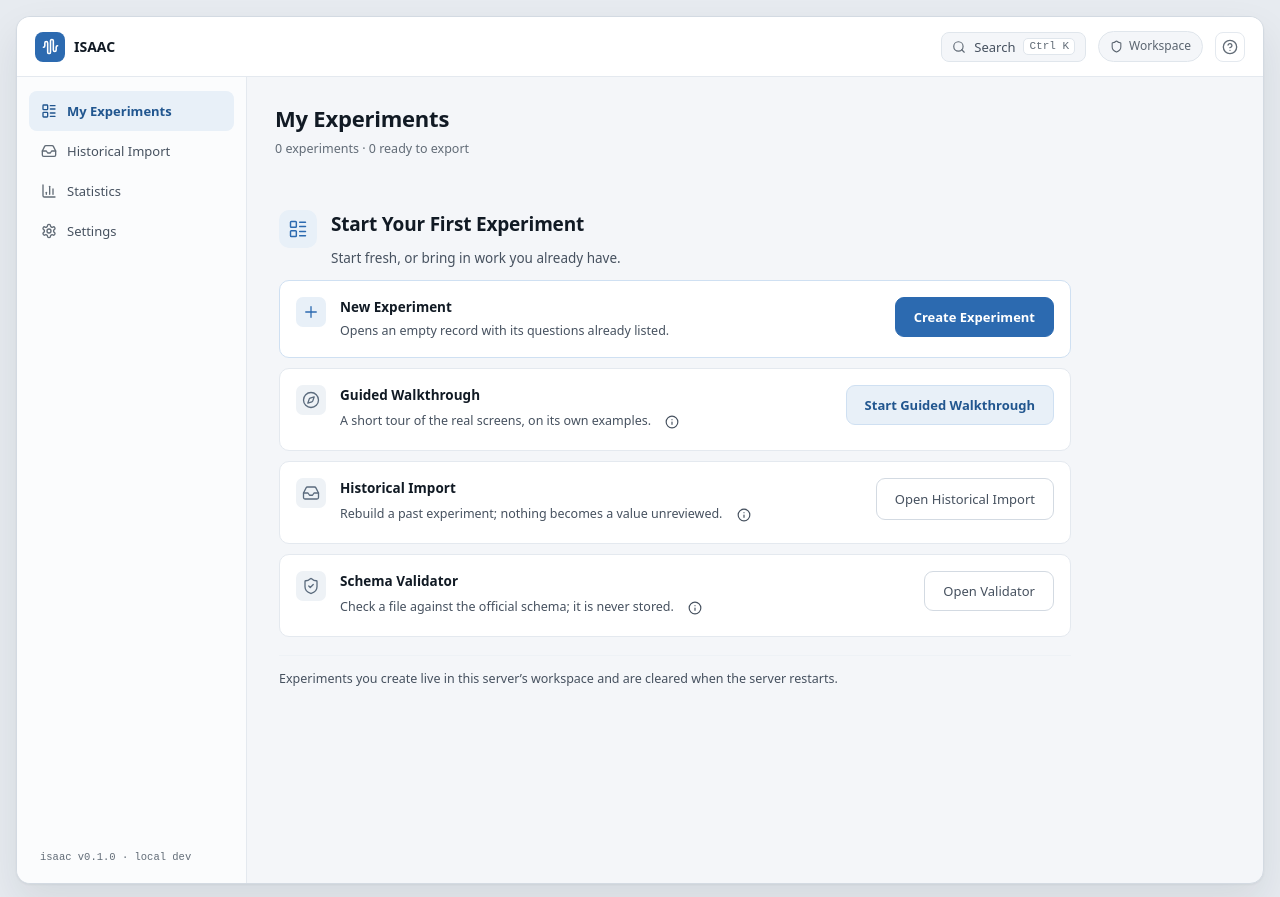
Test case: My Experiments · Create Experiment › surfaces a failure and keeps the reader on the form
expect the heading "Start Your First Experiment" is shown: met, box [331, 210, 621, 240]
Click the button "Create Experiment". click: click(974, 316)
box: [895, 296, 1054, 336]
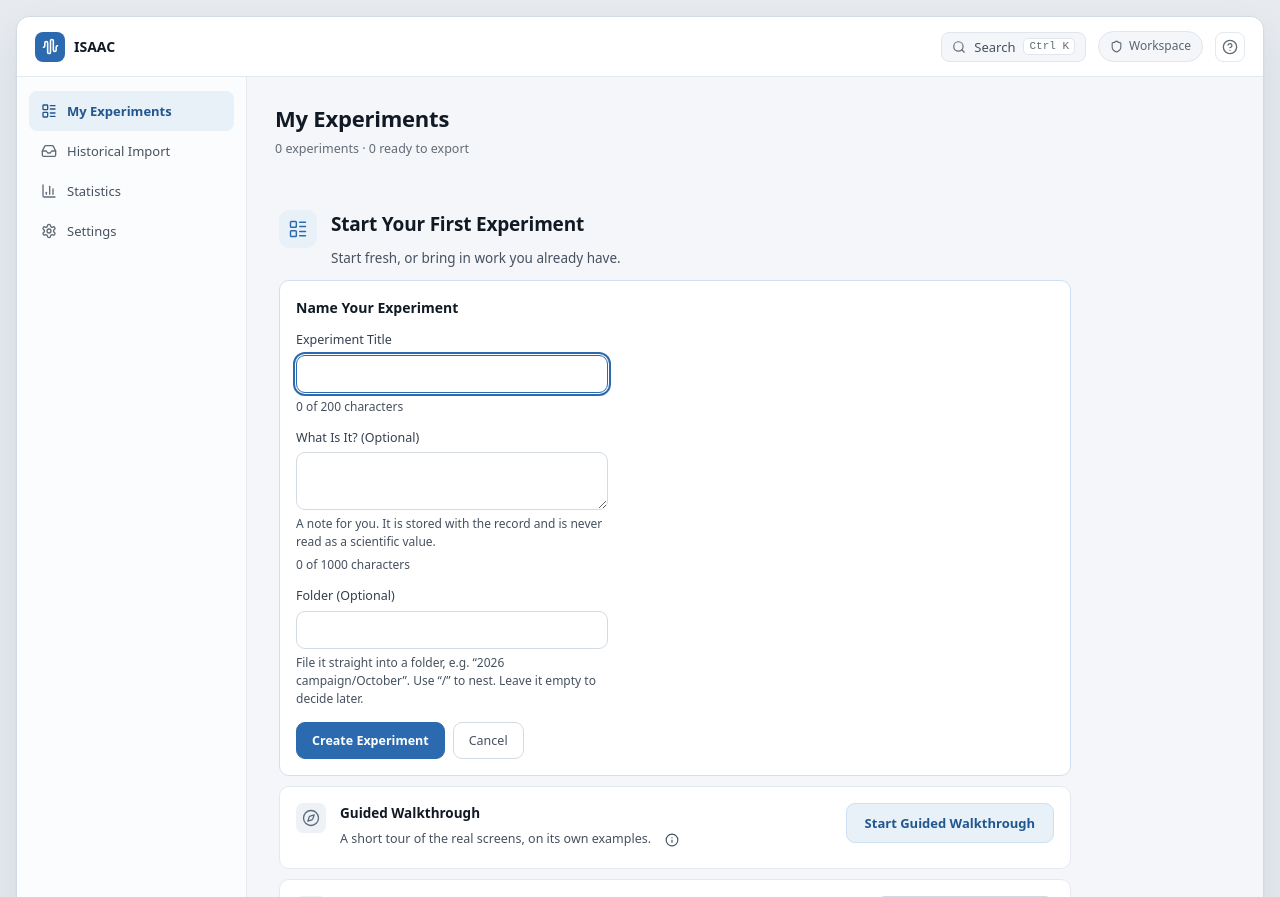
Type "Doomed" into the field labelled "Experiment Title". click: (452, 374)
box: [296, 355, 608, 393]
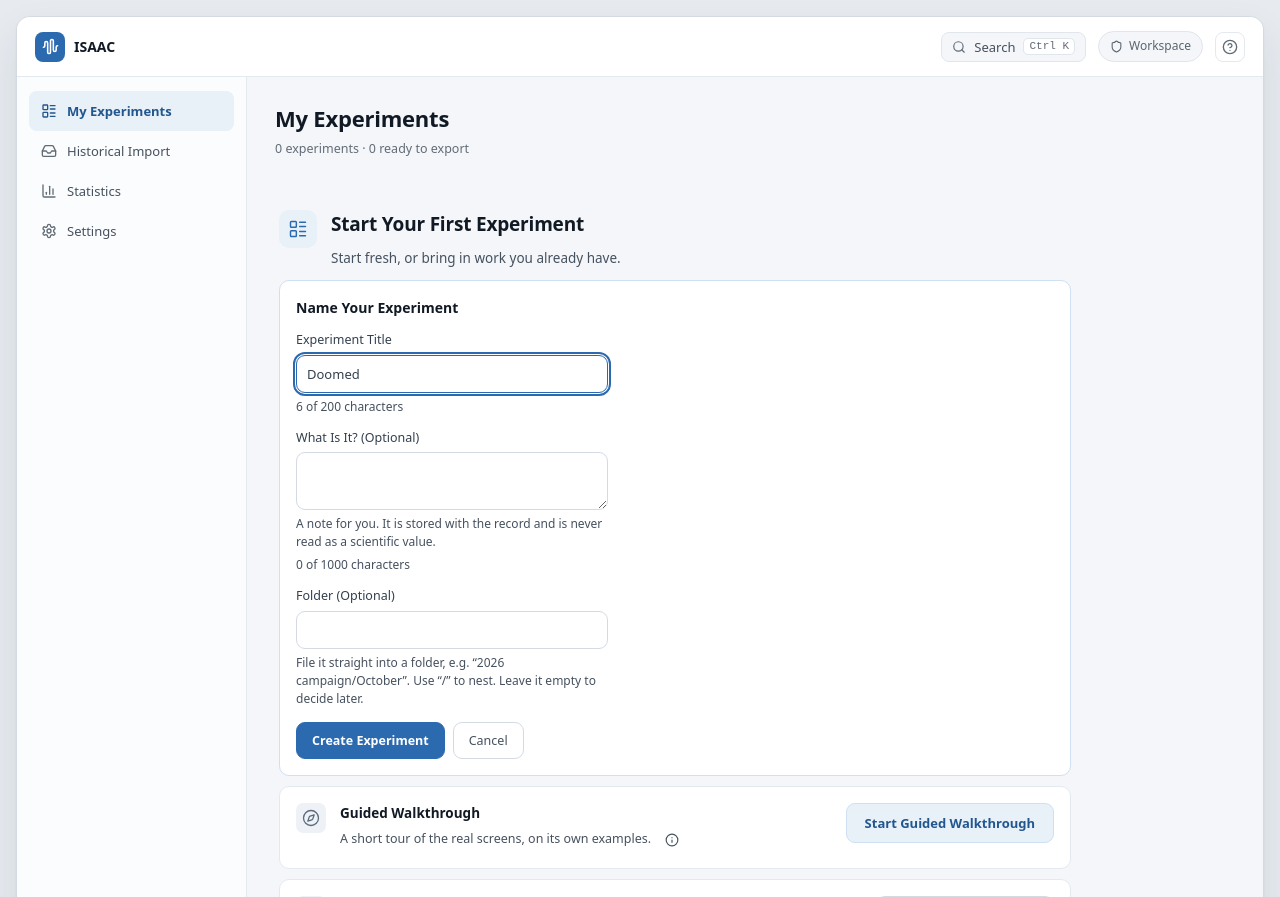
Click the button "Create Experiment". click: click(370, 740)
box: [296, 722, 445, 759]
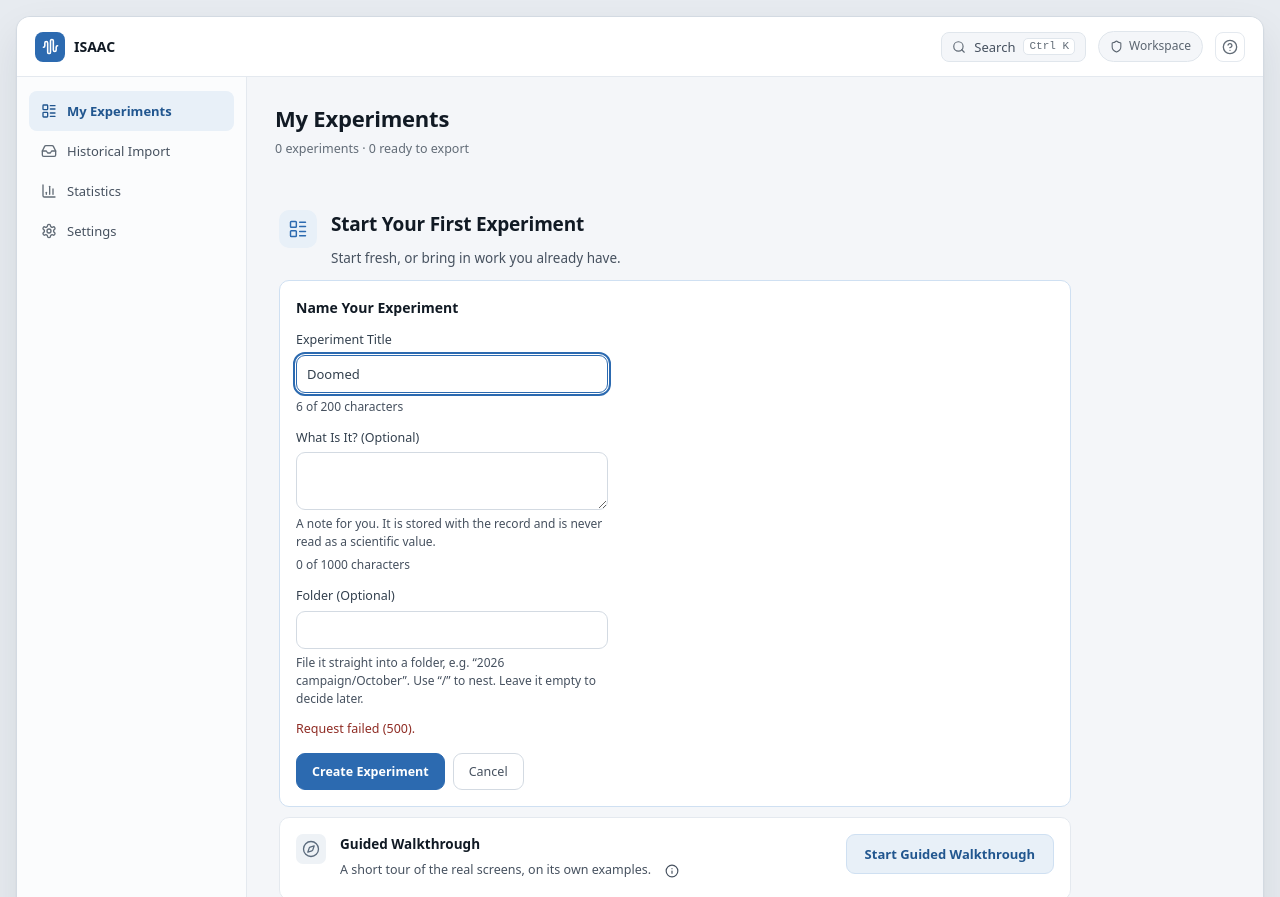
expect the button "Create Experiment" is enabled: met, box [296, 753, 445, 790]
expect the message "Request failed (500)." is shown: met, box [296, 720, 415, 737]
